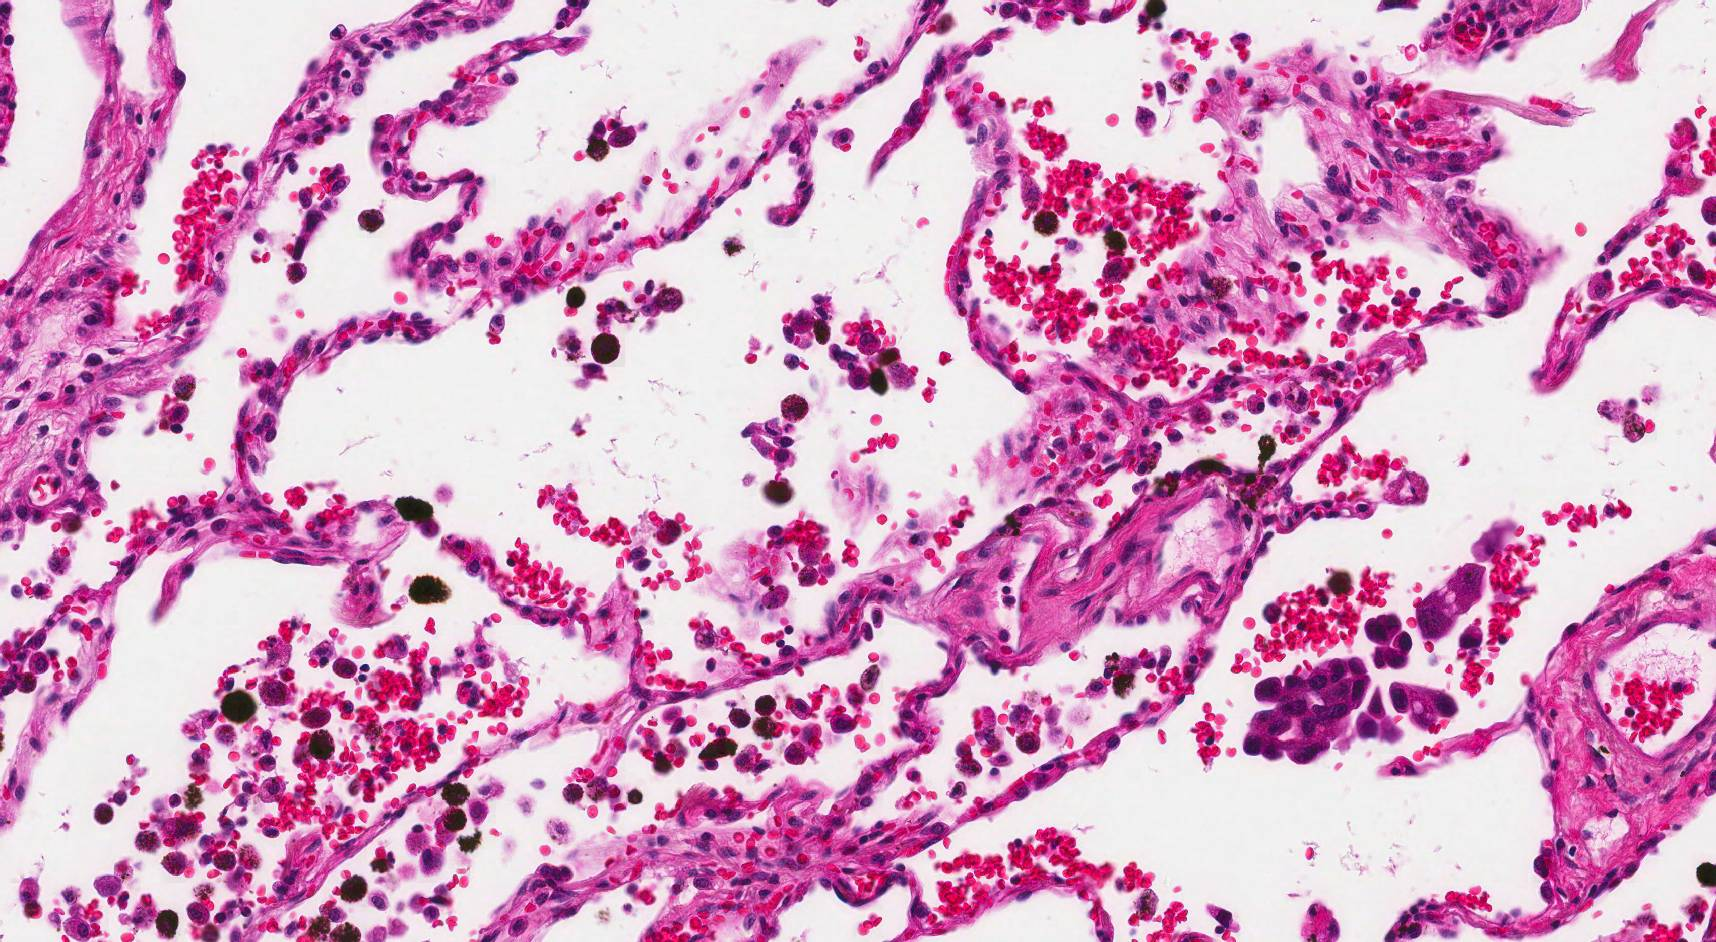stas: (1242, 655, 1457, 767), (1365, 612, 1412, 669)
